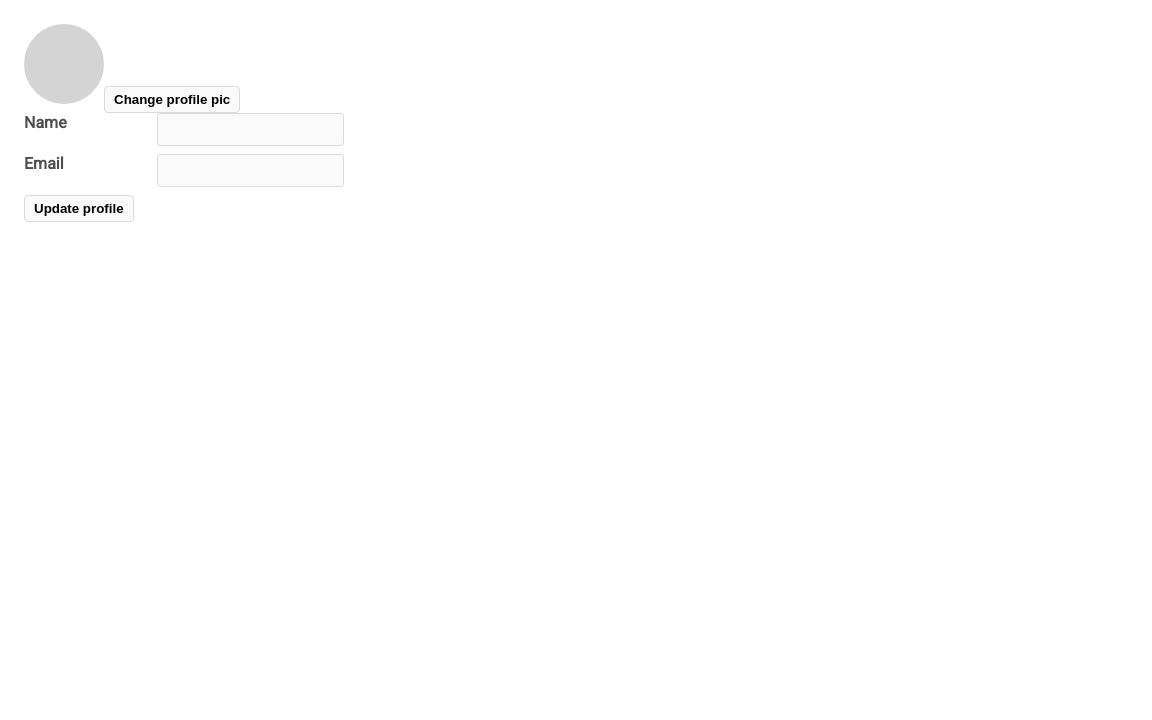
<EditProfileForm /> › displays uploadForm when clicking upload button
This screenshot has width=1152, height=720.
Click the button with test id "show-form-button".
click(172, 100)  # box [104,86,240,113]
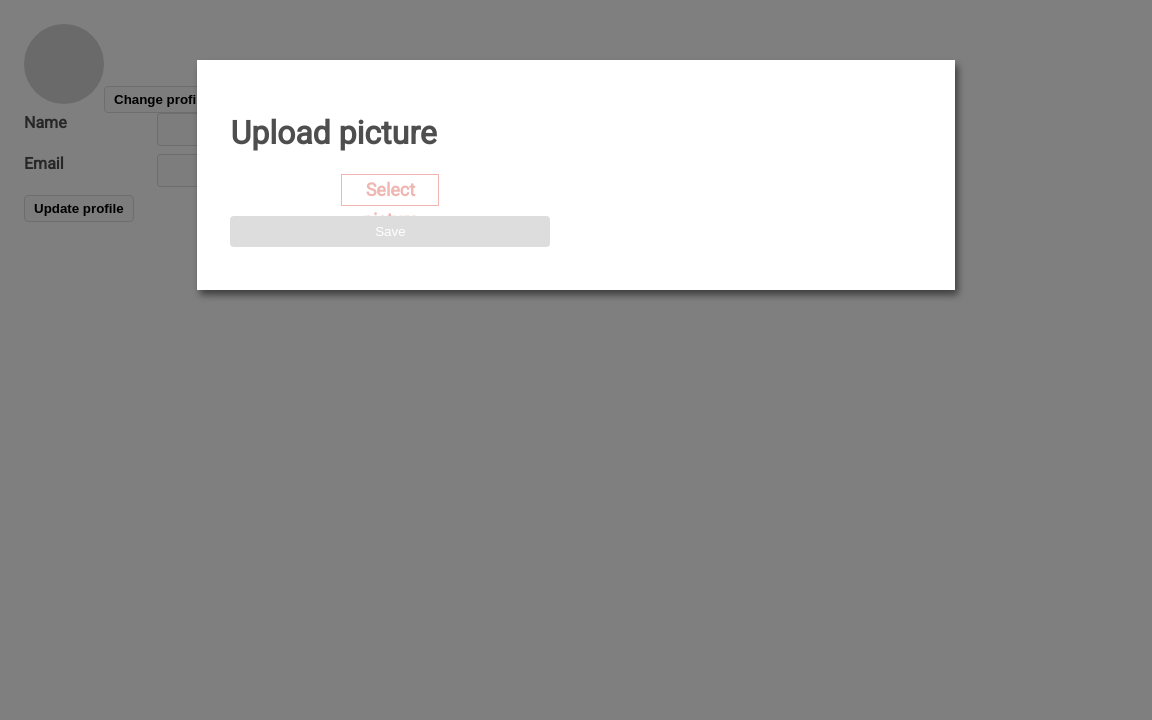
Result: the element with test id "upload-form" is shown at [197,60,955,290]
